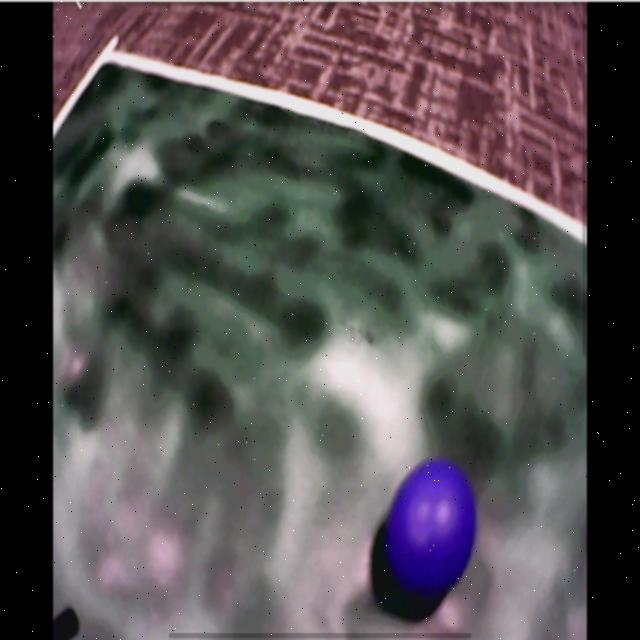ball: (391, 460, 478, 589)
